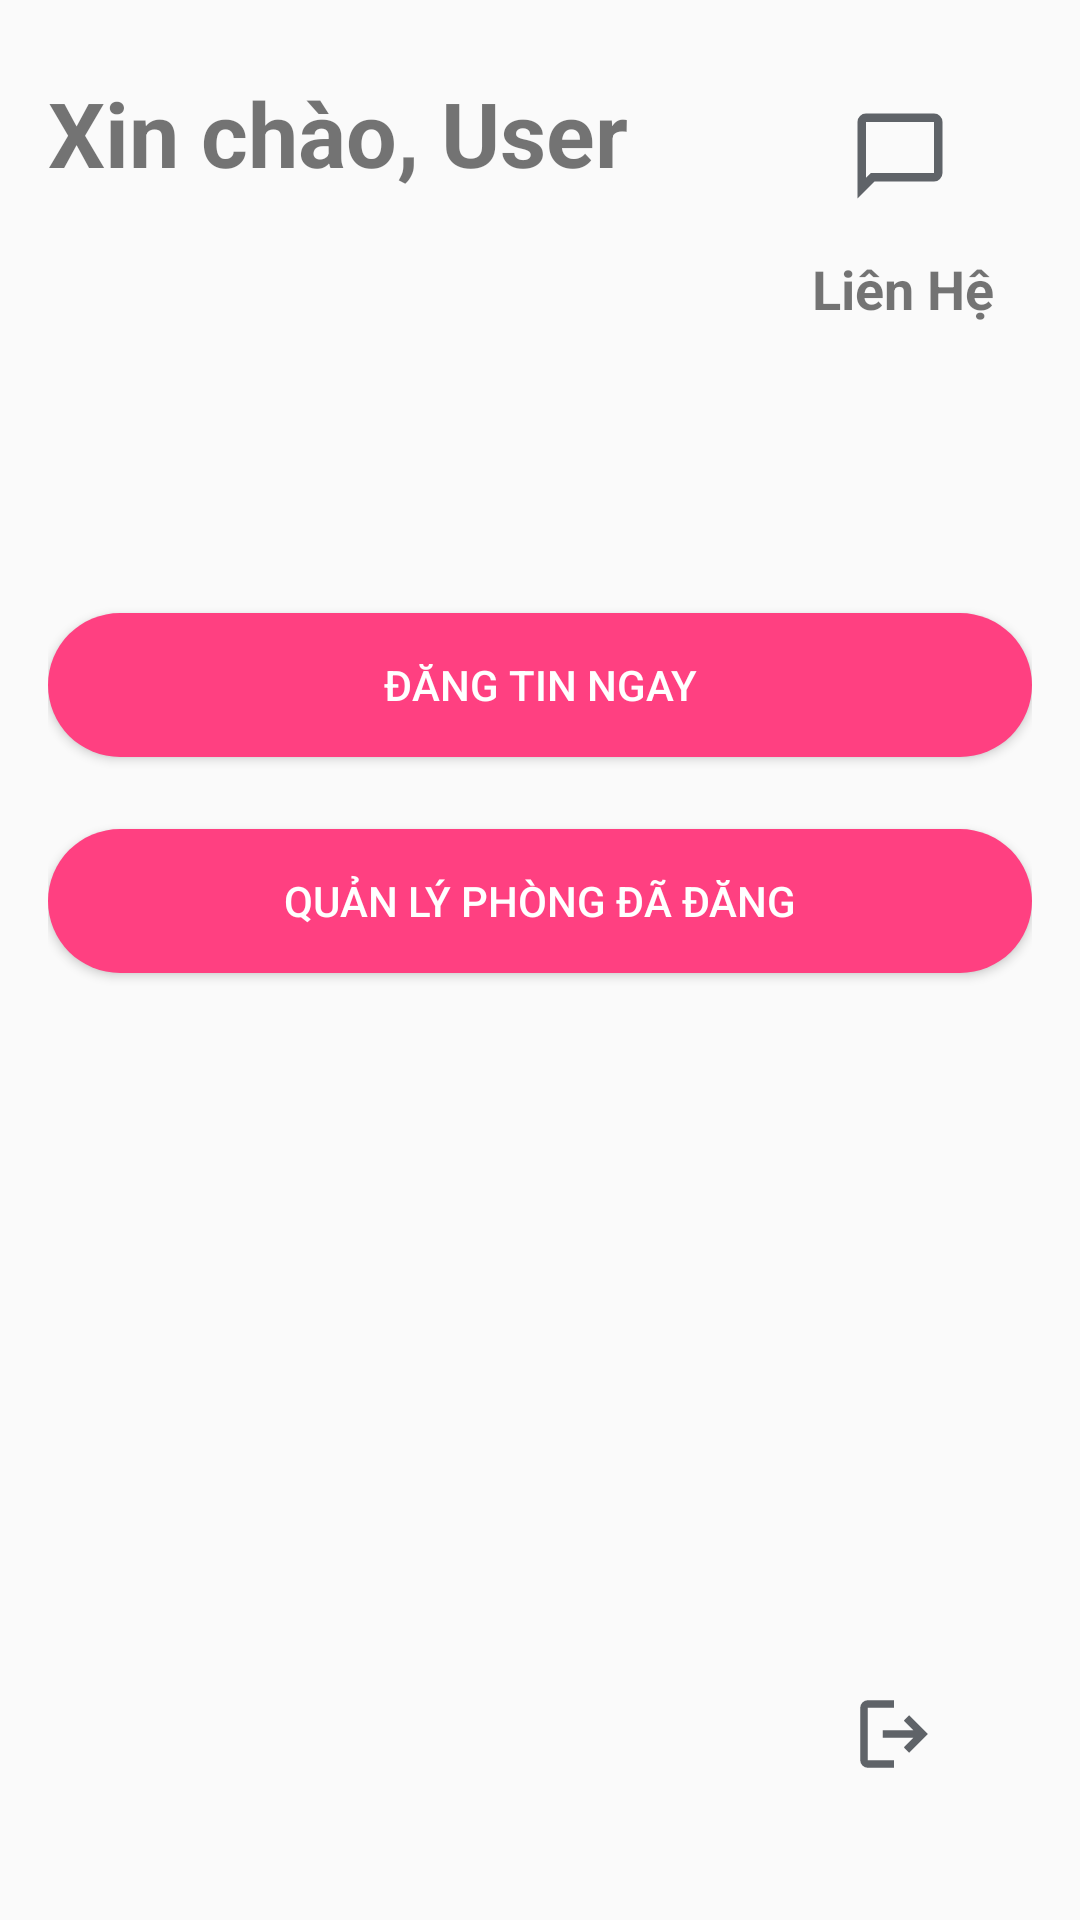

Screen size 1080px x 1920px. Icon name, then its box in pixels as {"x1": x1, "y1": y1, "x2": x2, "y2": y2}:
Chat: {"x1": 857, "y1": 113, "x2": 943, "y2": 198}
